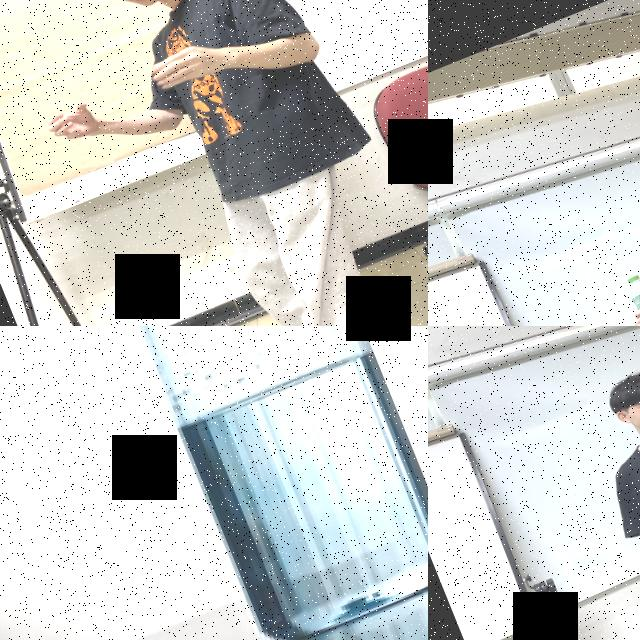bottle: (80, 326, 428, 640), (619, 266, 640, 326)
